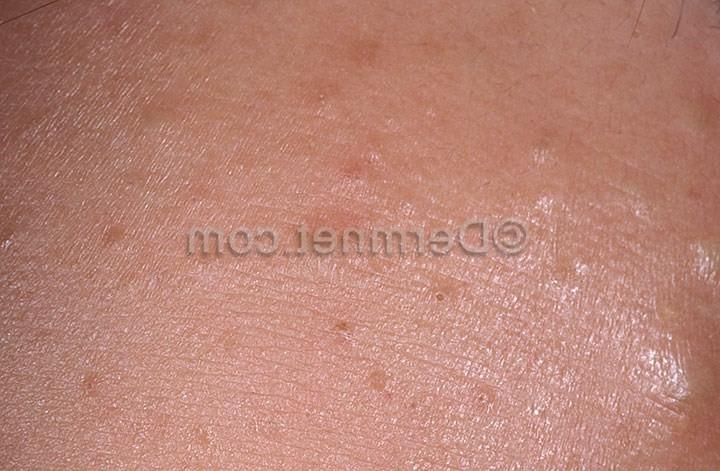Acne: (295, 203, 406, 290), (530, 136, 574, 223), (298, 80, 354, 122), (143, 102, 199, 142), (465, 383, 508, 421), (570, 253, 607, 291)
